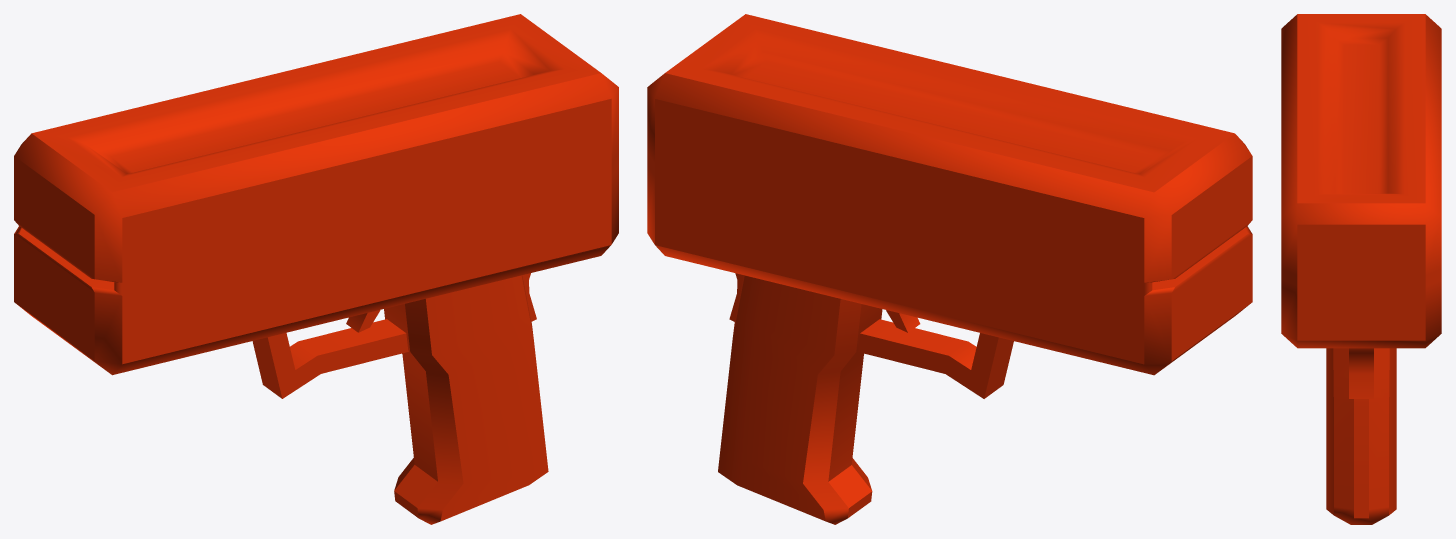
The model's file is Money_Gun.fbx.
3 views of the same model, side by side, from view 1: azimuth 30°, elevation 25°; view 2: azimuth 150°, elevation 25°; view 3: azimuth 270°, elevation 25° (orthographic). The views are drawn at different scales.
Visible parts, largest first — view 1: Money_Gun; view 2: Money_Gun; view 3: Money_Gun.
Part boxes in pixels (x1,y1,x2,y2): Money_Gun: [14, 14, 618, 524]; Money_Gun: [647, 14, 1252, 524]; Money_Gun: [1281, 14, 1441, 524].
Bounding box in the file's own units: 178 × 142 × 59.22.
